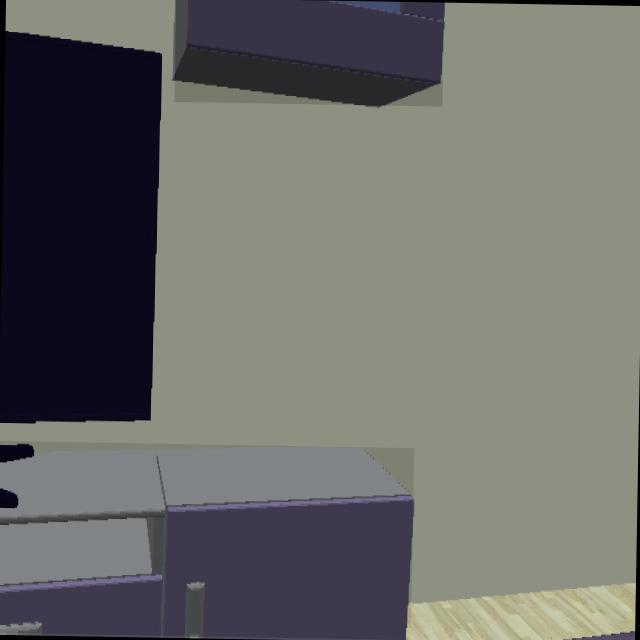cabinet: (0, 447, 413, 639), (175, 0, 444, 105)
monitor: (0, 31, 160, 422), (0, 446, 34, 462), (0, 489, 17, 508)
